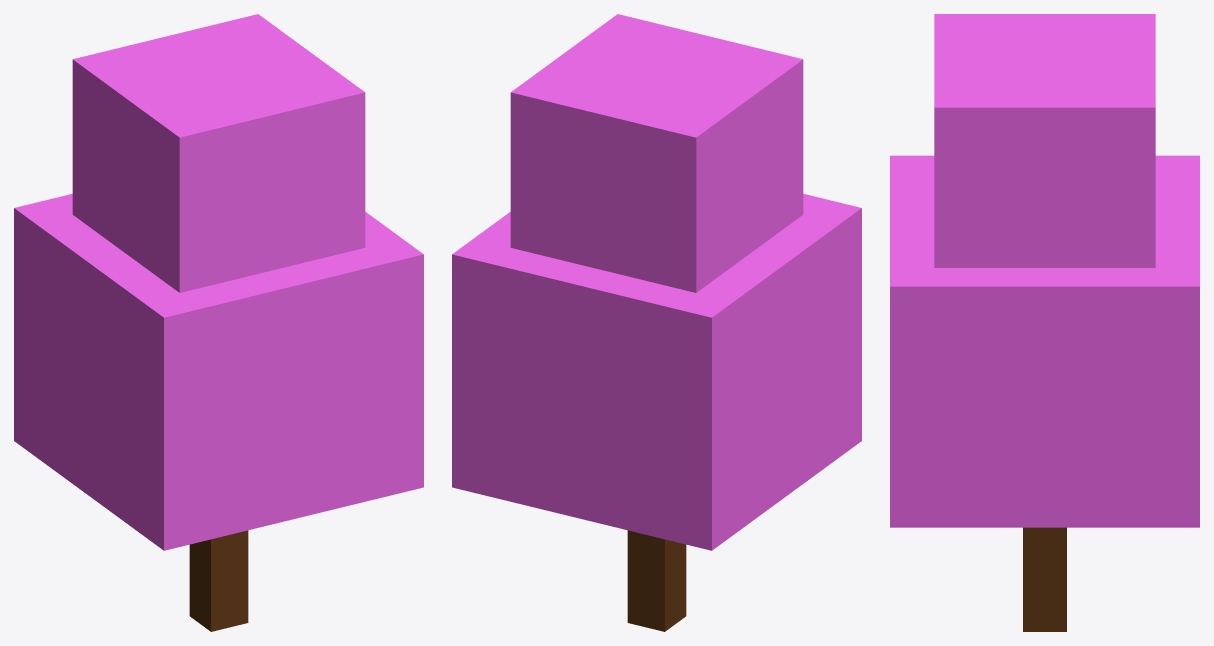
Rendered from Magnolia_Tree(1) (Stage 4).obj.
The picture shows the model from 3 angles, left to right: view 1: azimuth 30°, elevation 25°; view 2: azimuth 150°, elevation 25°; view 3: azimuth 270°, elevation 25°; orthographic projection. The views are drawn at different scales.
Bounding box in the file's own units: 0.7 × 1.4 × 0.7.
1 material, 1 textured.
